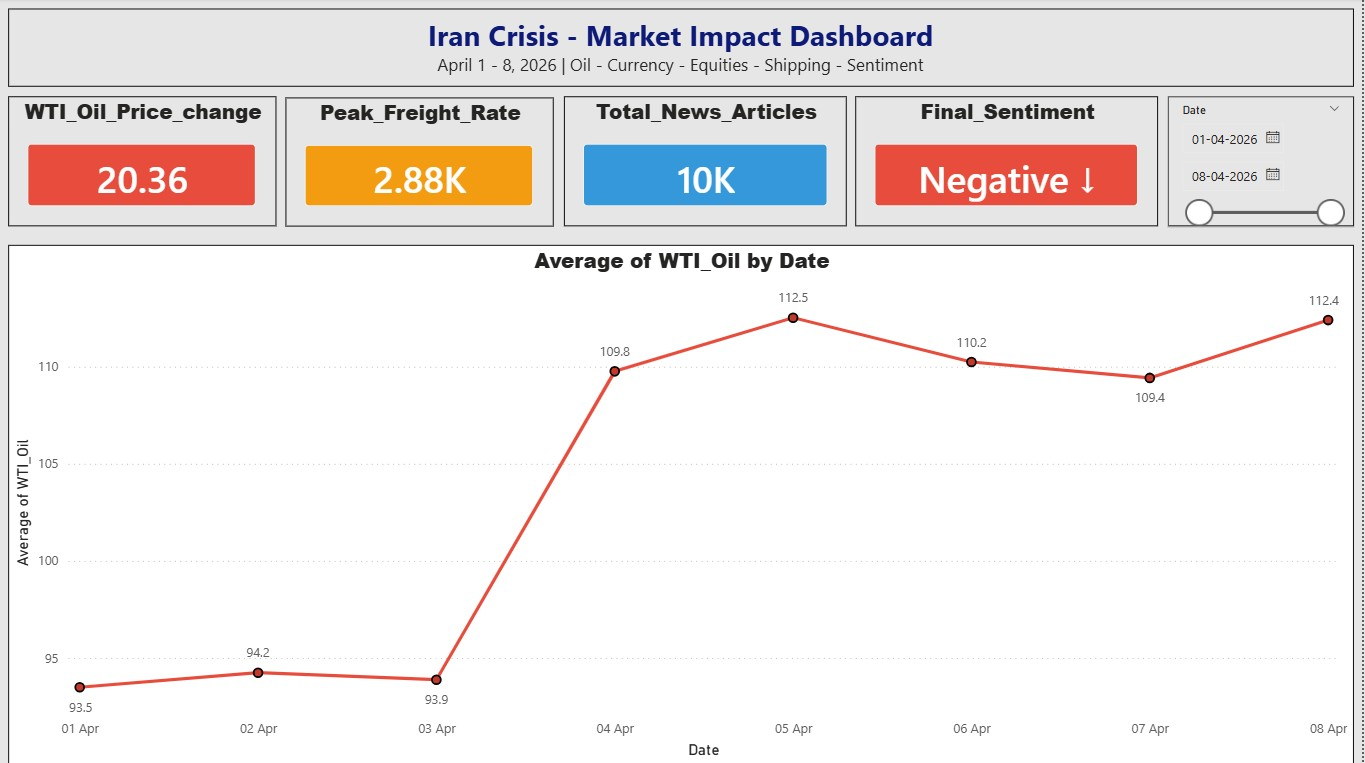

The dashboard page shown, as its layout file describes it:
{"tool":"powerbi","page":{"name":"Crisis Overview","canvas":[1280,720],"ordinal":0},"visuals":[{"type":"cardVisual","title":"WTI_Oil_Price_change","fields":{"Data":["powerbi_country_change_%_change.Oil_Change_%"]},"box":[7.7,92.4,251.9,122.1],"z":0},{"type":"cardVisual","title":"Peak_Freight_Rate","fields":{"Data":["powerbi_country_change_%_change.Peak_Freight_Rate"]},"box":[268.3,93.5,251.9,121],"z":1000},{"type":"cardVisual","title":"Total_News_Articles","fields":{"Data":["powerbi_country_change_%_change.Total_Articles"]},"box":[530.1,92.4,266.1,122.1],"z":2000},{"type":"cardVisual","title":"Final_Sentiment","fields":{"Data":["powerbi_country_change_%_change.-- Sentiment Trend DirectionSentiment_Direction"]},"box":[803.9,92.4,284.8,122.1],"z":3000},{"type":"lineChart","fields":{"Y":["Avg(powerbi_master.WTI_Oil)","select"],"Category":["powerbi_master.Date"]},"box":[7.7,232.1,1264.8,488.3],"z":4000},{"type":"textbox","box":[7.7,9.9,1264.8,73.7],"z":5000},{"type":"slicer","fields":{"Values":["powerbi_master.Date"]},"box":[1097.6,92.4,174.9,122.1],"z":6000}]}

Visuals, with their boxes in screenshot pixels (x1, y1, x2, y2), scaled from the page's 1280x720 canvas onto the 1365x763 screenshot:
"WTI_Oil_Price_change" cardVisual: [x1=8, y1=98, x2=277, y2=227]
"Peak_Freight_Rate" cardVisual: [x1=286, y1=99, x2=555, y2=227]
"Total_News_Articles" cardVisual: [x1=565, y1=98, x2=849, y2=227]
"Final_Sentiment" cardVisual: [x1=857, y1=98, x2=1161, y2=227]
lineChart - Avg(powerbi_master.WTI_Oil) x select: [x1=8, y1=246, x2=1357, y2=762]
textbox: [x1=8, y1=10, x2=1357, y2=89]
slicer - powerbi_master.Date: [x1=1170, y1=98, x2=1357, y2=227]
